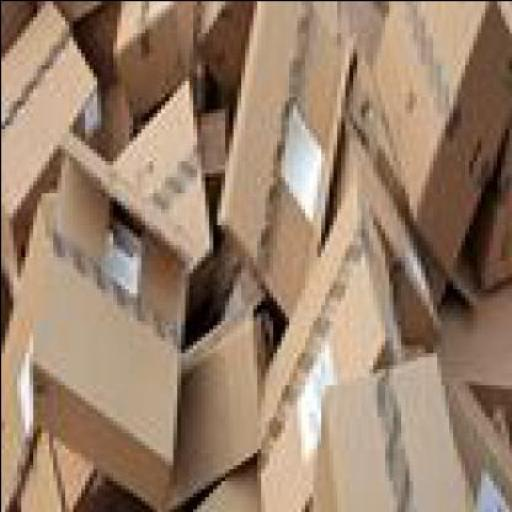cardboard: (2, 1, 511, 510), (28, 120, 196, 504), (222, 1, 360, 308), (264, 192, 388, 508), (379, 1, 511, 261), (320, 348, 511, 510), (2, 1, 104, 265), (160, 292, 268, 504), (4, 288, 100, 508), (112, 76, 220, 252), (404, 280, 510, 386), (116, 1, 204, 116), (471, 128, 511, 290), (202, 1, 252, 105)
